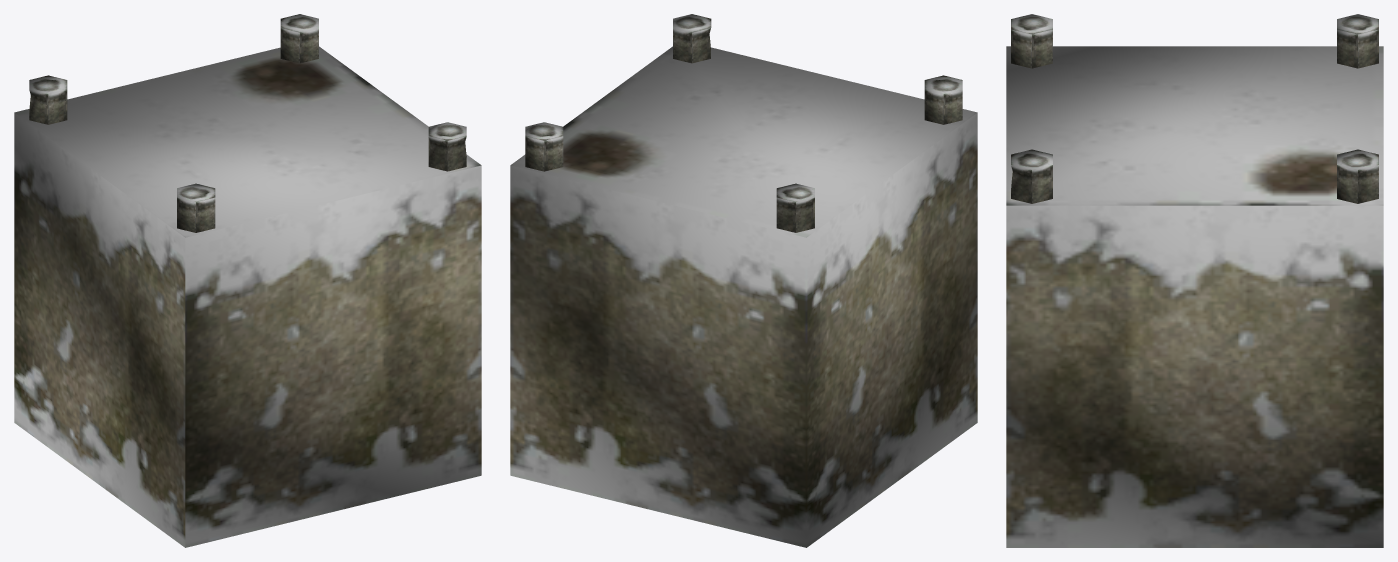
The model's file is landmark_grandstone01_lod_01.fbx.
3 renders of one model, left to right at view 1: azimuth 30°, elevation 25°; view 2: azimuth 150°, elevation 25°; view 3: azimuth 270°, elevation 25°, orthographic. The views are drawn at different scales.
Visible parts, largest first — view 1: Object01; view 2: Object01; view 3: Object01.
Part boxes in pixels (bbox=[...]): Object01: bbox=[14, 14, 481, 547]; Object01: bbox=[510, 14, 977, 547]; Object01: bbox=[1006, 14, 1383, 547].
Size of the model in its own units: 4.64 by 5.1 by 4.64.
